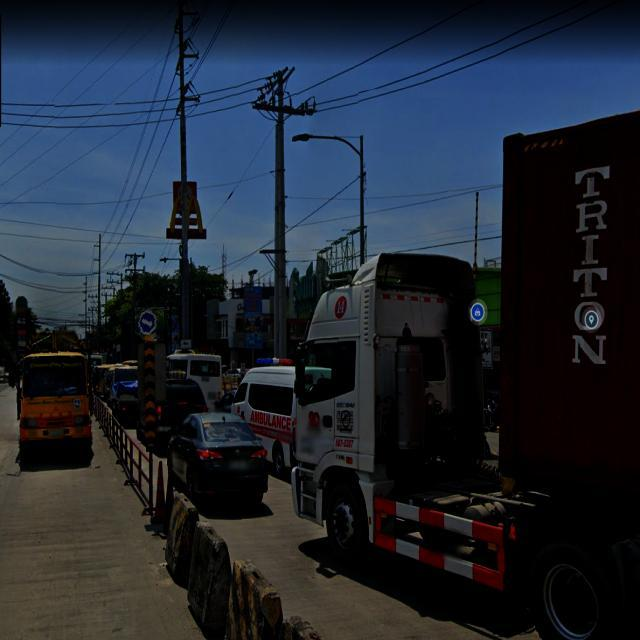keep right: (135, 307, 164, 341)
